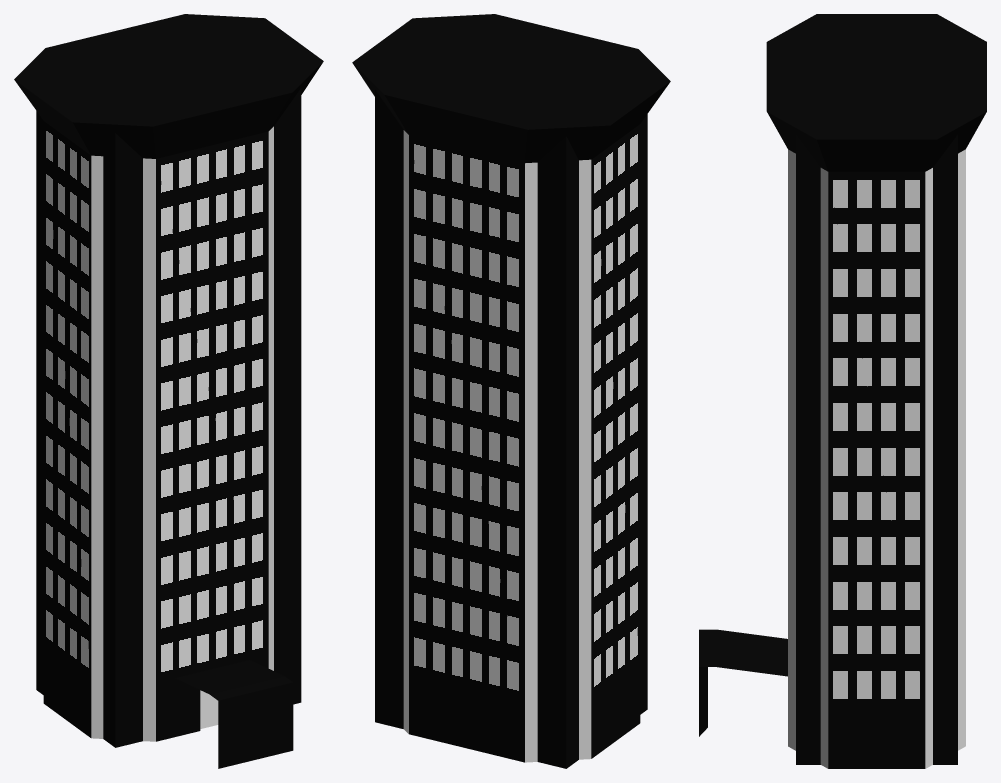
3 renders of one model, left to right at view 1: azimuth 30°, elevation 25°; view 2: azimuth 150°, elevation 25°; view 3: azimuth 270°, elevation 25°, orthographic. The views are drawn at different scales.
Parts seen in each view (by area): view 1: B3; view 2: B3; view 3: B3.
Boxes of the visible parts, x1,y1,x2,y2 form: B3: [14, 14, 323, 768]; B3: [352, 14, 670, 768]; B3: [699, 14, 986, 768].
Bounding box in the file's own units: 1671 × 3980 × 1619.
